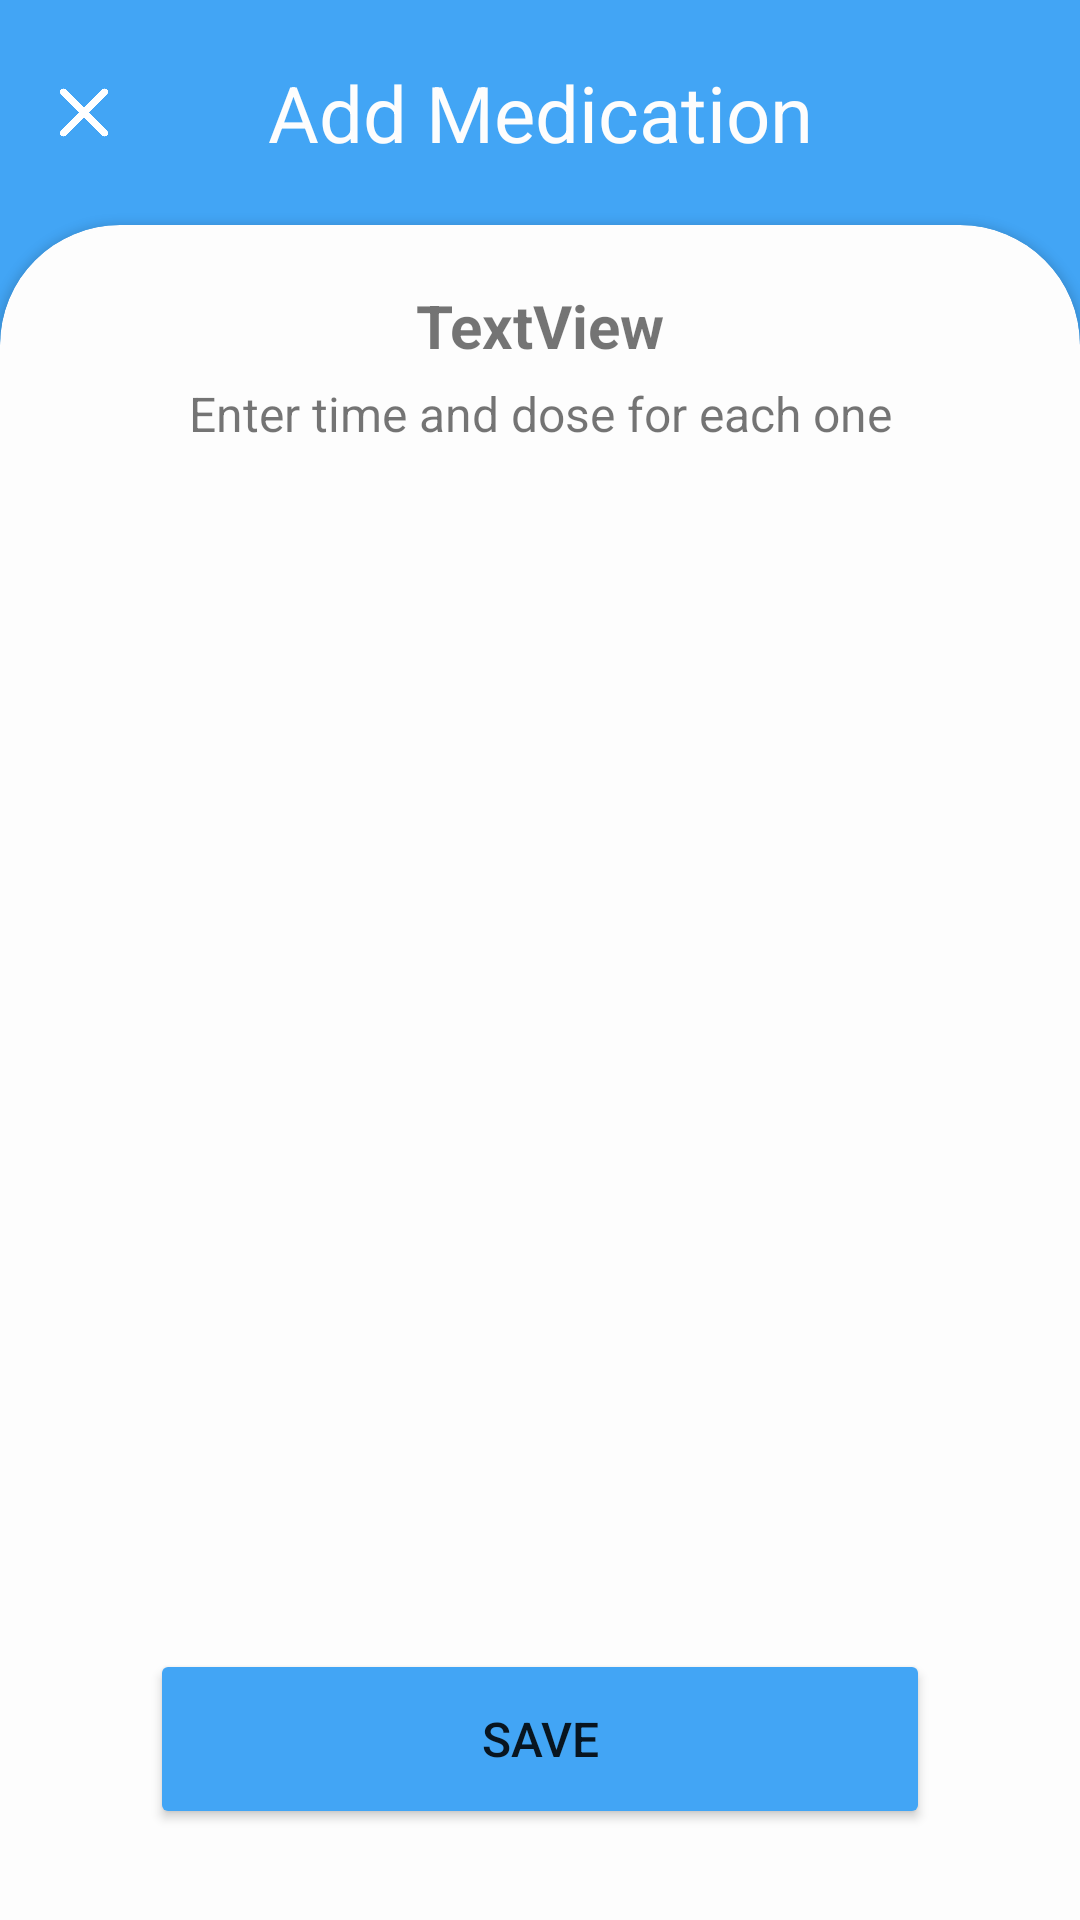

Screen size 1080 x 1920. Icon name, then its center in pixels as (x,y):
cancel: (84,112)
